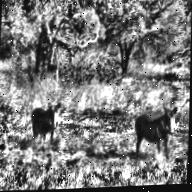boar: (121, 97, 183, 155), (22, 88, 66, 148)
